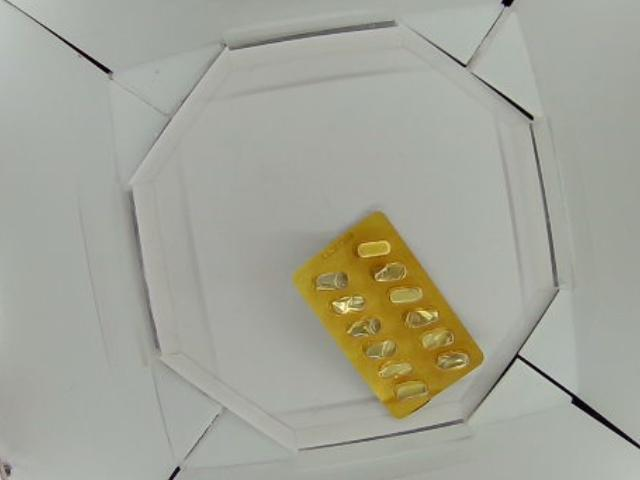Medicine: (294, 210, 486, 421)
